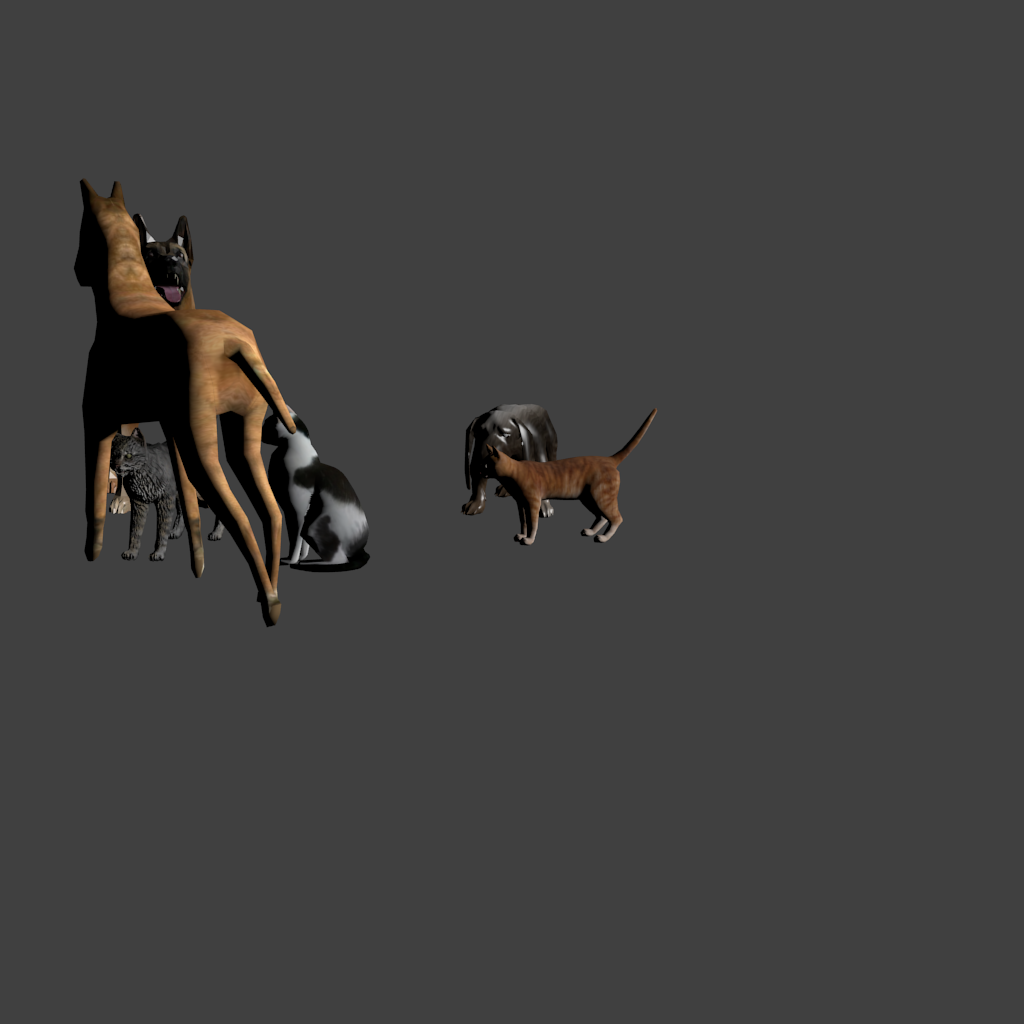Dog: (74, 178, 223, 449)
